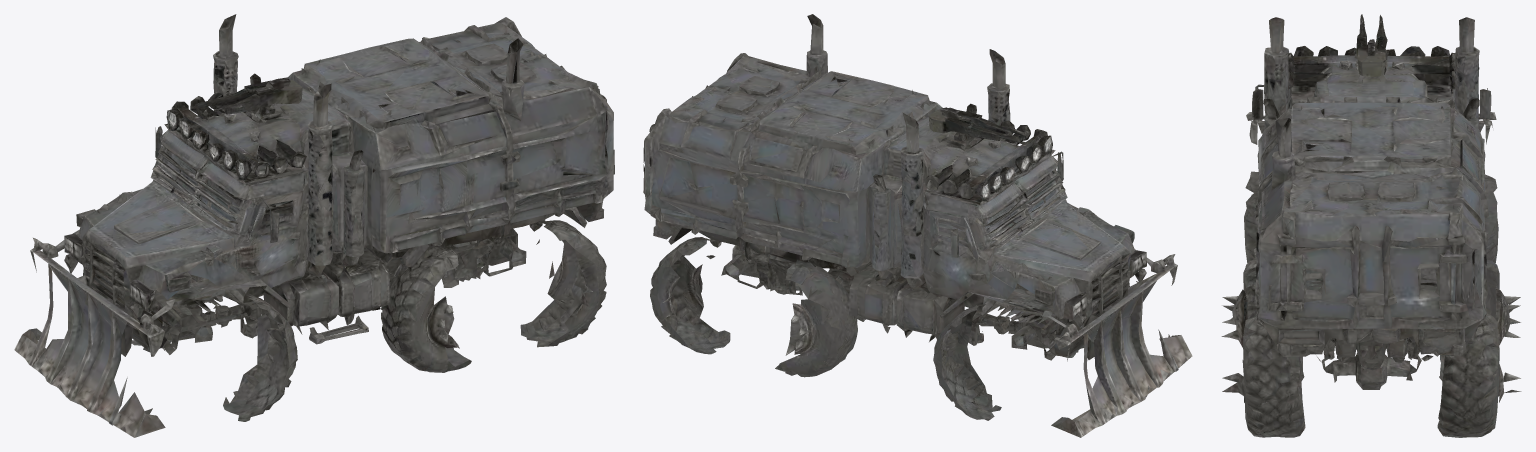
File: juggernaut-ai.glb
The picture shows the model from 3 angles, left to right: view 1: azimuth 30°, elevation 25°; view 2: azimuth 150°, elevation 25°; view 3: azimuth 270°, elevation 25°; orthographic projection. The views are drawn at different scales.
Parts seen in each view (by area): view 1: CarBody; view 2: CarBody; view 3: CarBody.
Part boxes in pixels (bbox=[...]): CarBody: bbox=[14, 14, 614, 437]; CarBody: bbox=[643, 14, 1192, 437]; CarBody: bbox=[1221, 14, 1521, 437].
Size of the model in its own units: 1.9 by 1.13 by 0.9941.
Materials: 1 (1 with a texture image).
